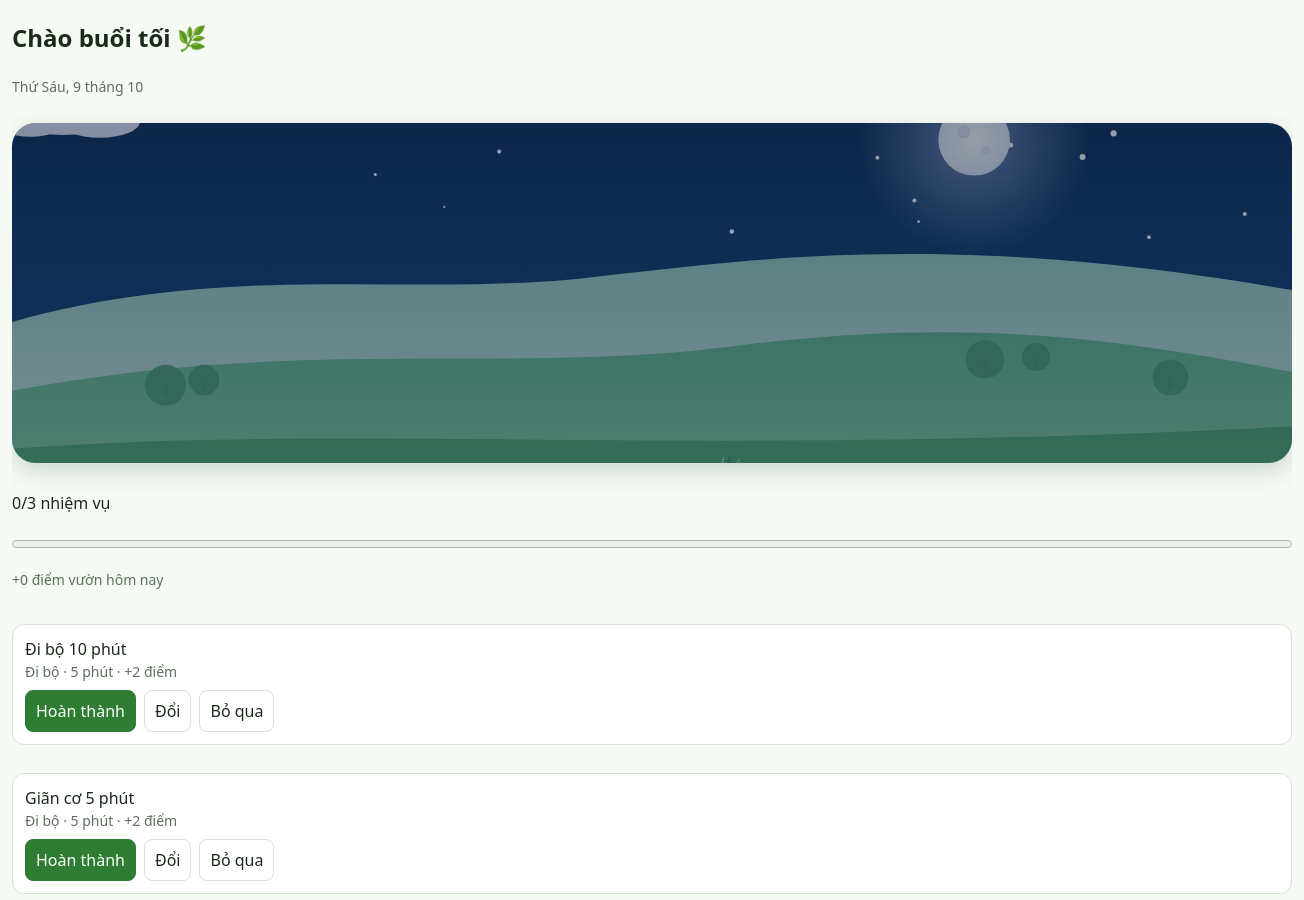
Scenario: Today › completes and un-completes a task
The image size is (1304, 900).
What coordinates should you click on to do the following:
click the button with aria-label "Hoàn thành: Đi bộ 10 phút"
I would click on:
 (80, 711)
Its box is [25,690,136,732].
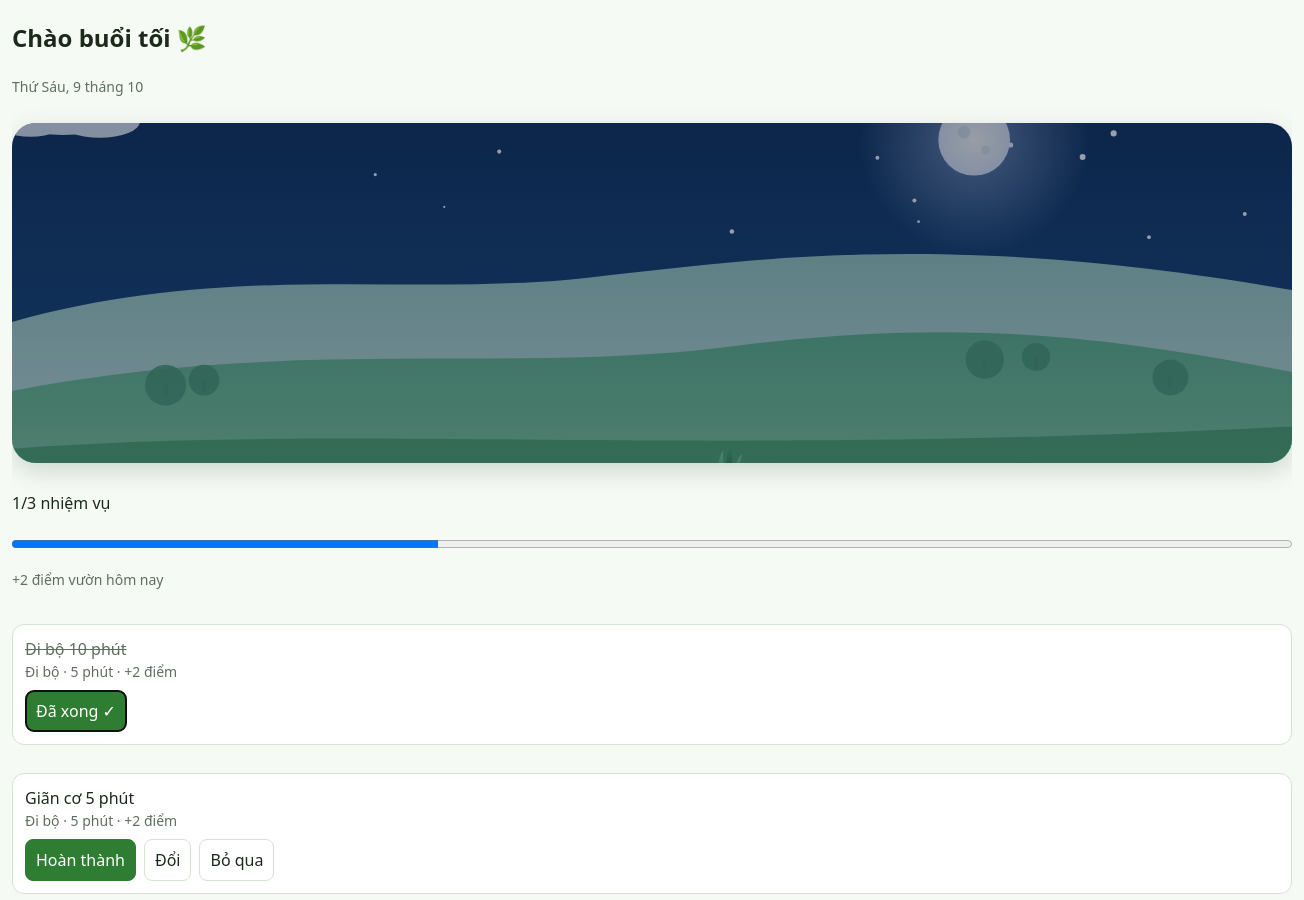
Expected: the text "1/3 nhiệm vụ" is shown, [12,492,110,514]
What coordinates should you click on to do the following:
click the button with aria-label "Hoàn thành: Đi bộ 10 phút"
I would click on:
 (76, 711)
Its box is [25,690,127,732].
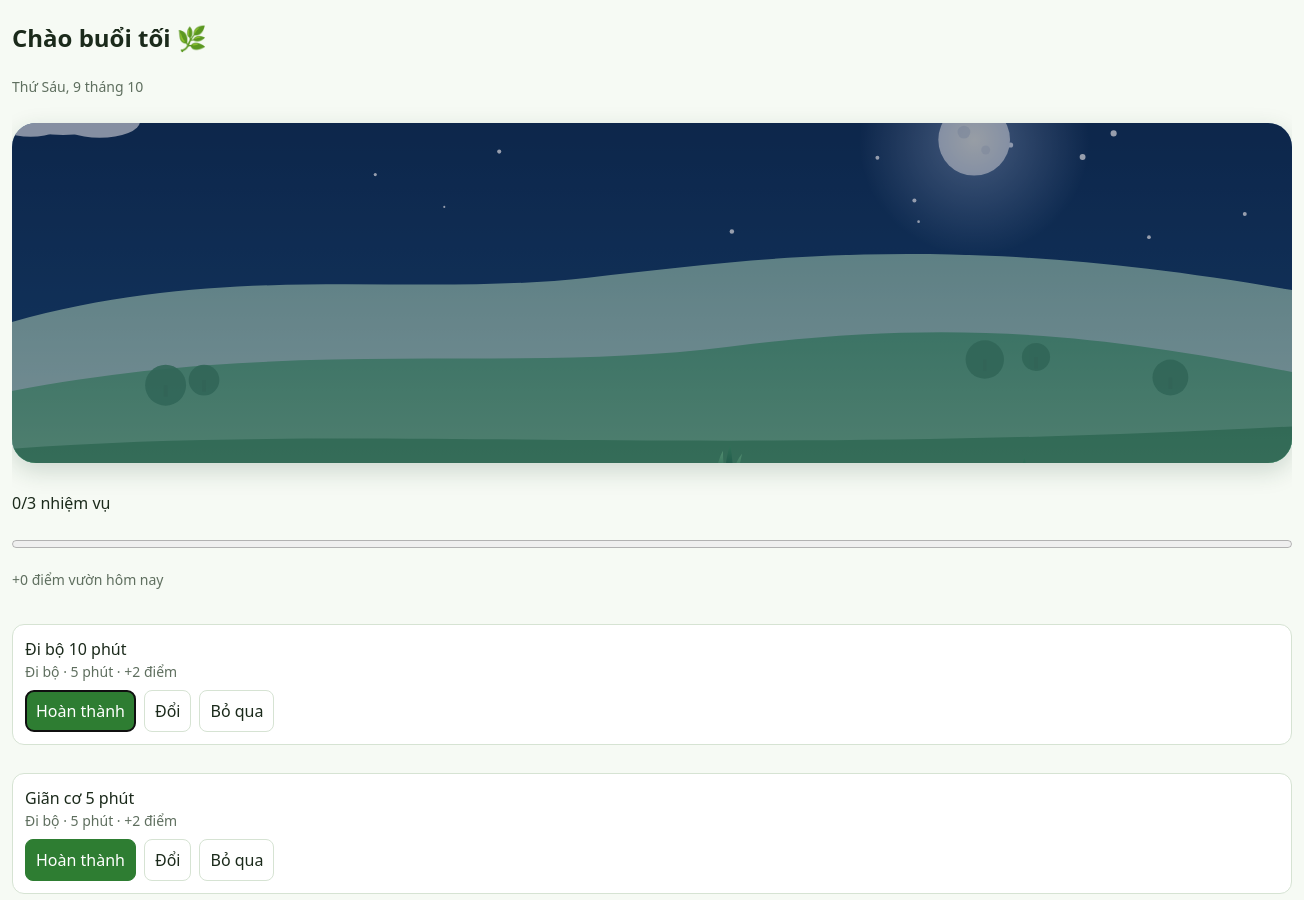
Expected: the text "0/3 nhiệm vụ" is shown, [12,492,110,514]
